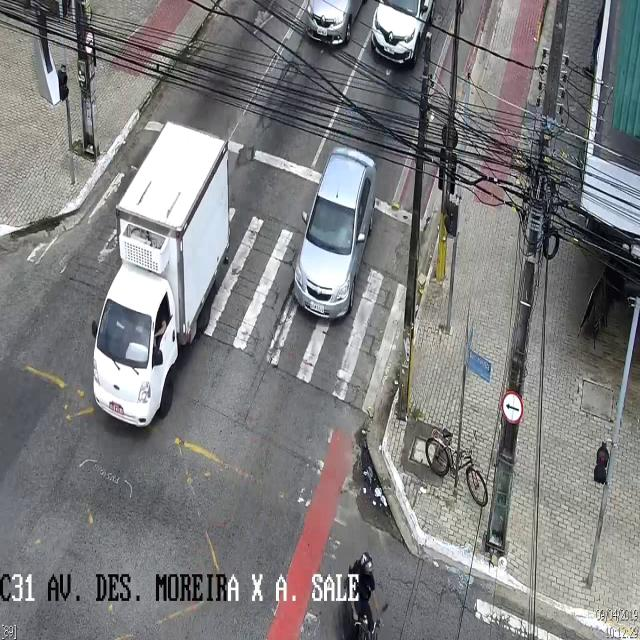Car: (291, 148, 376, 322), (373, 1, 434, 63), (307, 1, 363, 45)
Motorcycle: (341, 554, 385, 639)
Truck: (91, 120, 227, 428)
